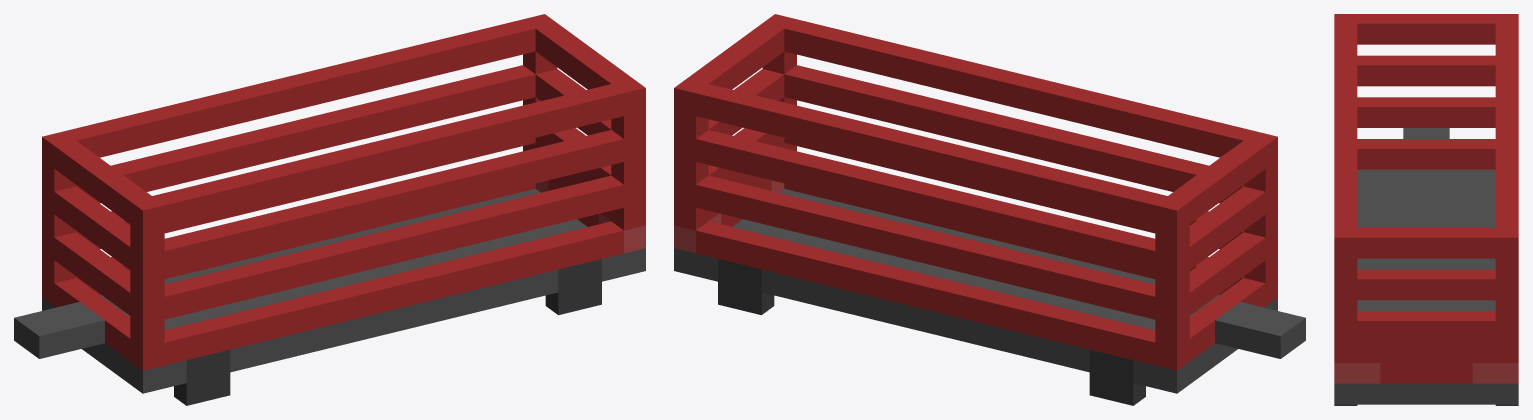
File: tractor-trailer-v2-red.gltf
3 renders of one model, left to right at view 1: azimuth 30°, elevation 25°; view 2: azimuth 150°, elevation 25°; view 3: azimuth 270°, elevation 25°, orthographic. The views are drawn at different scales.
Parts seen in each view (by area): view 1: model, wheels; view 2: model, wheels; view 3: model.
Part boxes in pixels (bbox=[...]): model: bbox=[14, 14, 645, 405]; wheels: bbox=[174, 259, 601, 404]; model: bbox=[674, 14, 1305, 405]; wheels: bbox=[718, 261, 1145, 405]; model: bbox=[1334, 14, 1518, 405].
Bounding box in the file's own units: 2.6 × 0.9 × 0.8.
Materials: 2 (2 with a texture image).
